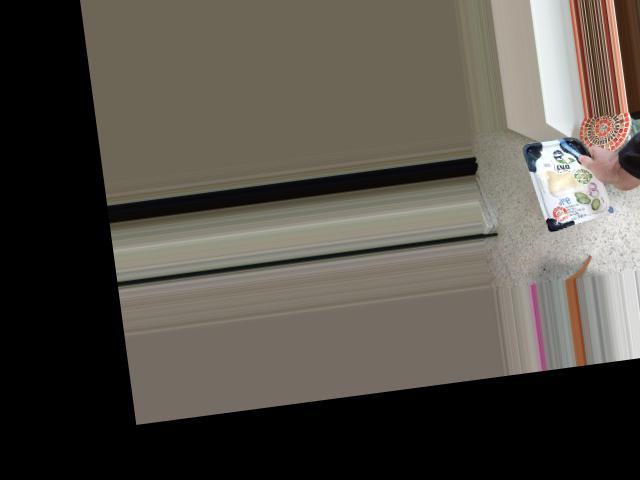cheese: (547, 146, 626, 222)
